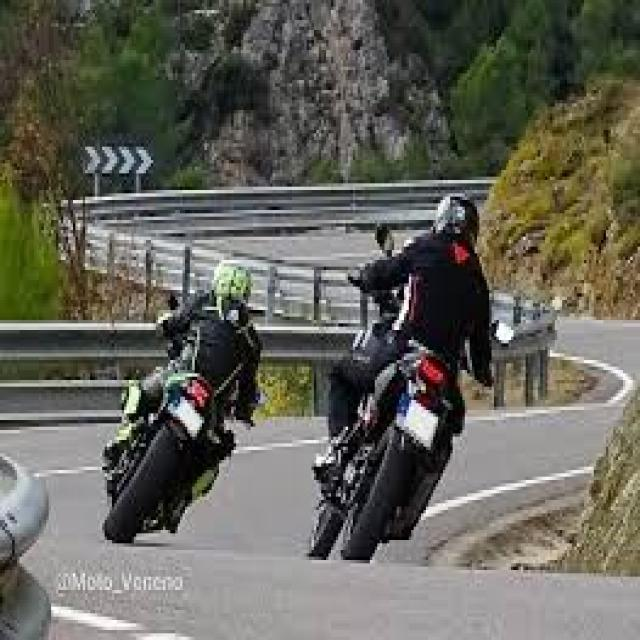MOTORCYCLE: (319, 347, 466, 562), (100, 374, 235, 540)
